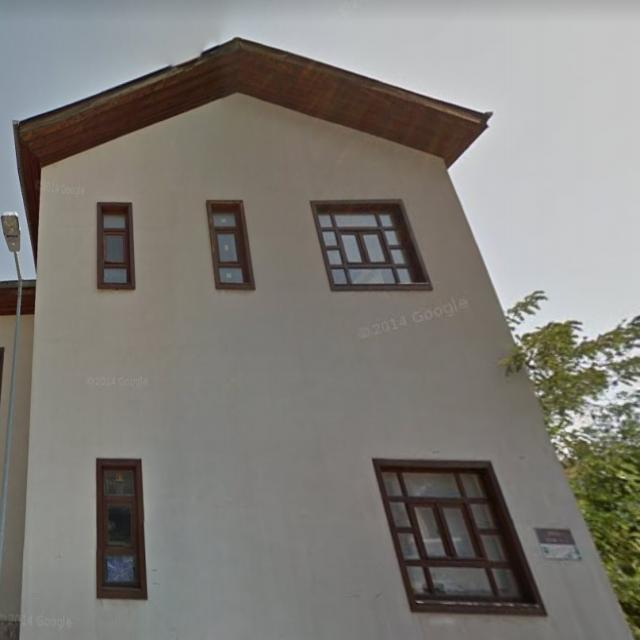Building: (15, 38, 637, 640)
